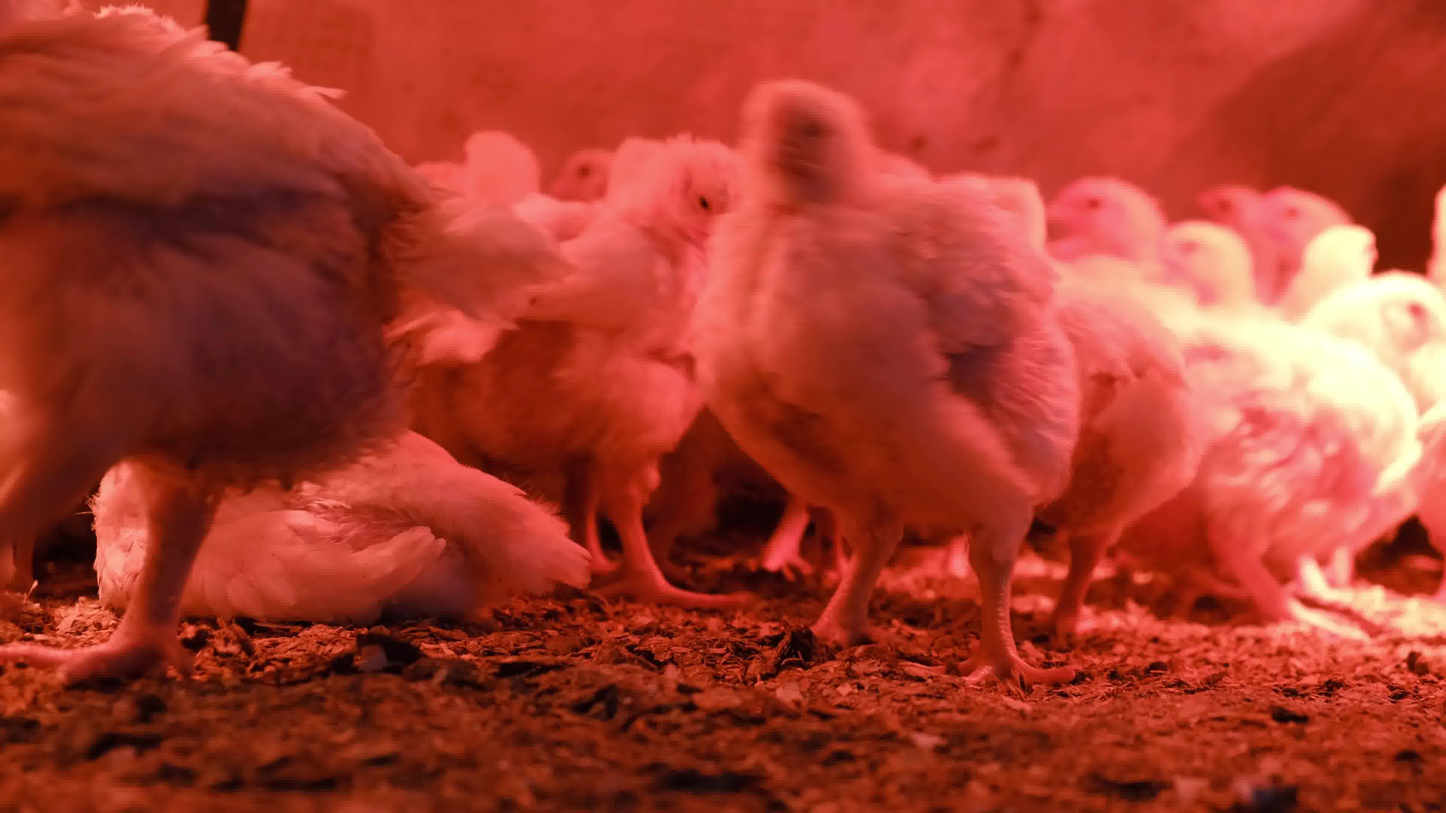AbNormal: (88, 414, 595, 625)
Normal: (0, 0, 569, 687), (695, 81, 1081, 687), (397, 134, 748, 632), (942, 170, 1239, 652), (1140, 271, 1443, 635), (1053, 175, 1171, 271), (1278, 224, 1386, 325), (1168, 222, 1257, 315), (1269, 185, 1350, 252), (552, 142, 620, 210), (1194, 177, 1275, 234)
